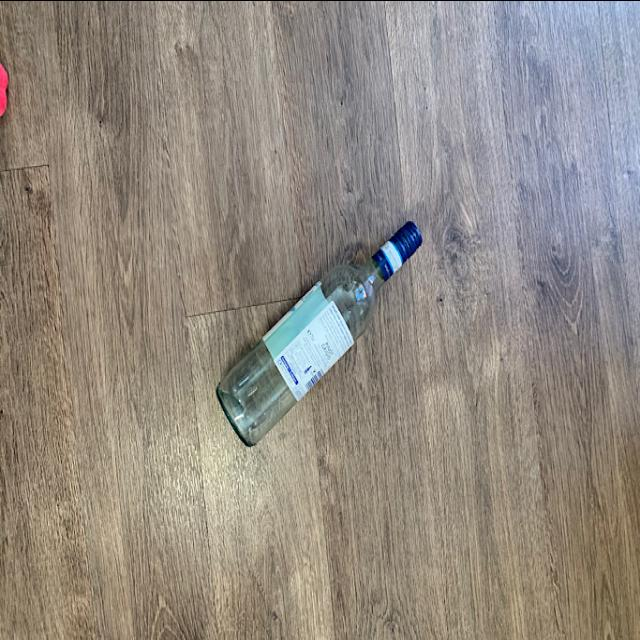Glass Bottle: (216, 216, 427, 450)
